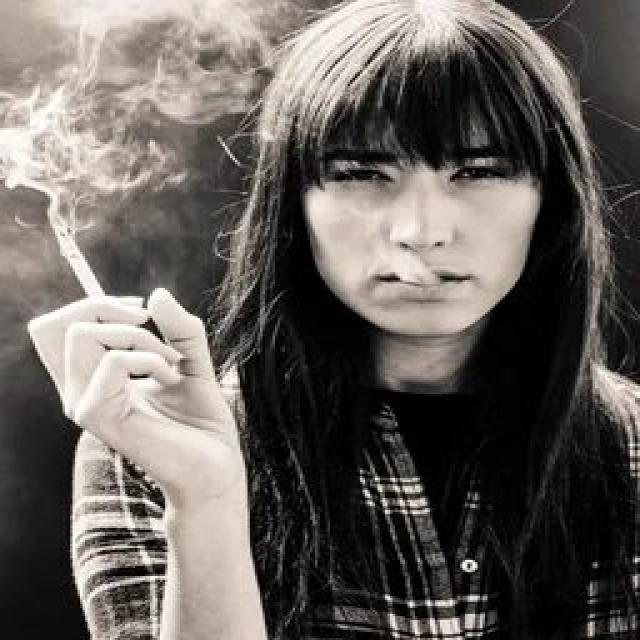cigarette: (43, 228, 125, 314)
